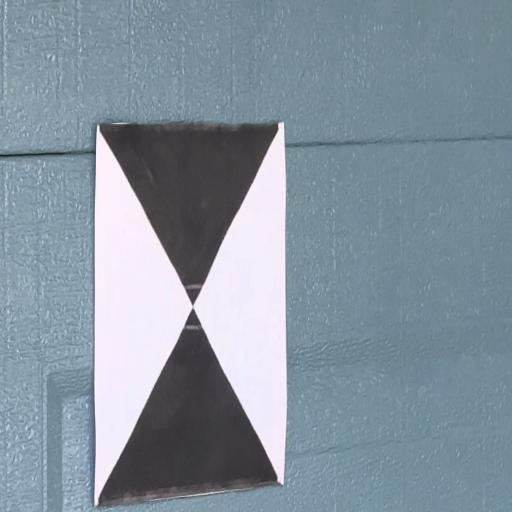target: (97, 126, 283, 483)
